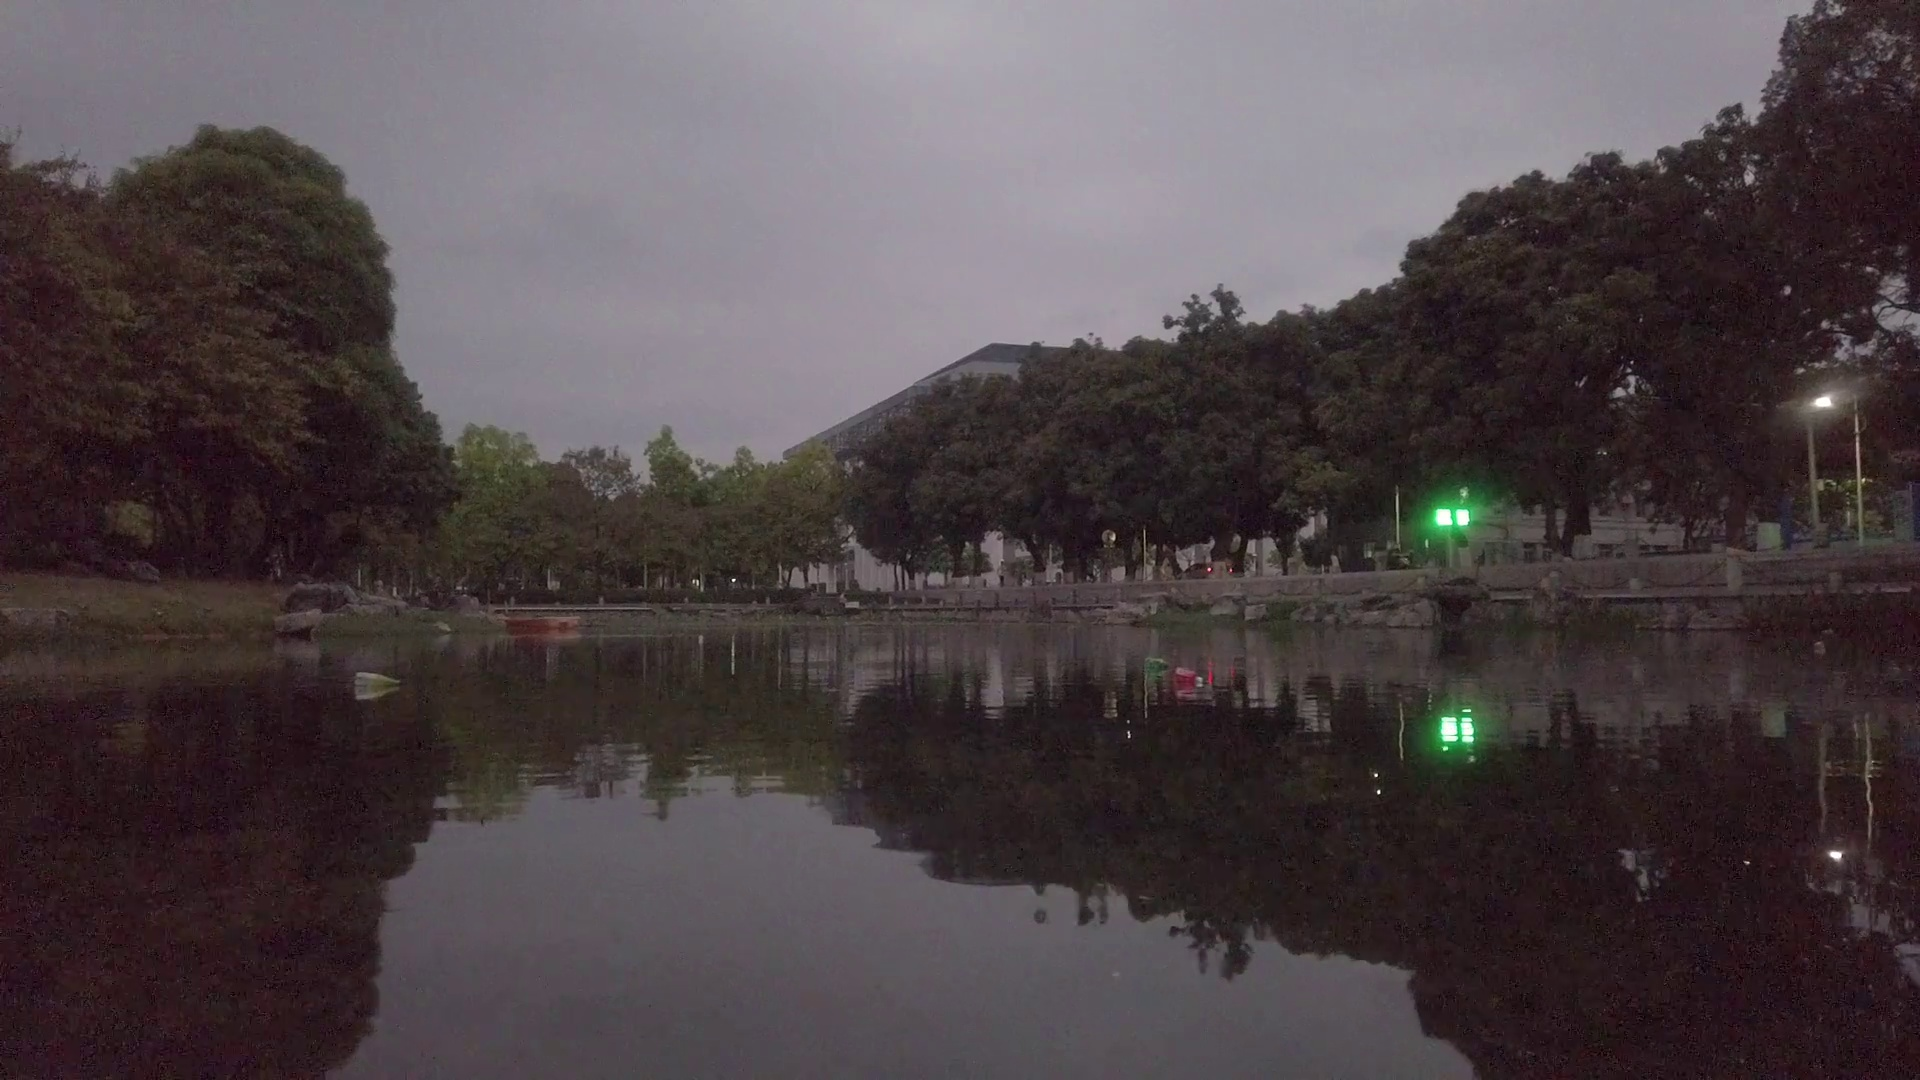bottle: (352, 673, 404, 688), (1808, 637, 1833, 659), (1174, 669, 1203, 687), (1141, 655, 1168, 673)
